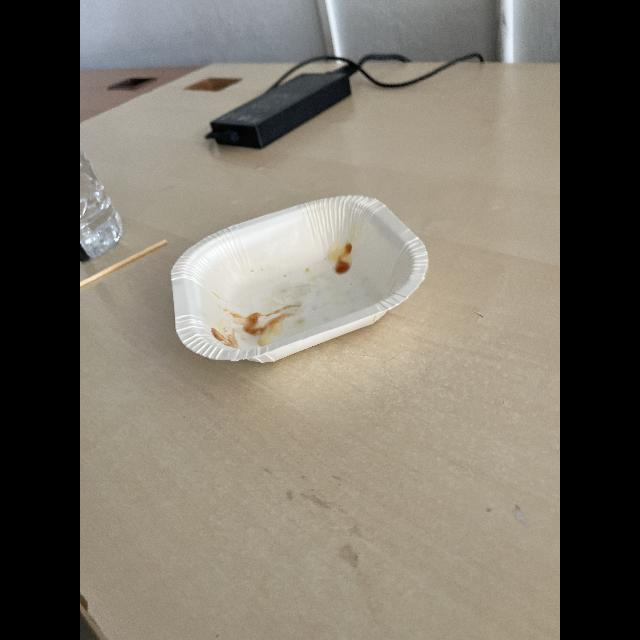cardboard_bowl: (161, 186, 429, 374)
stick: (80, 232, 168, 298)
